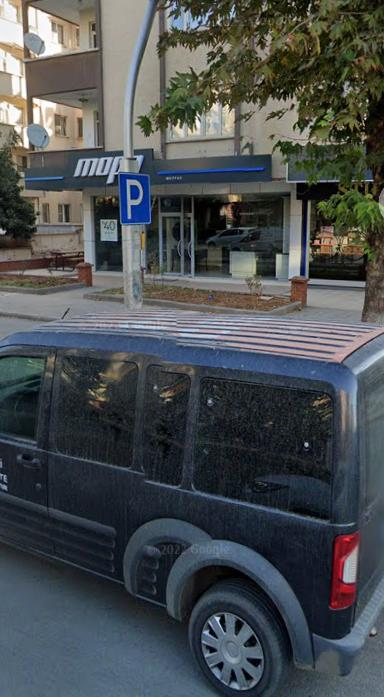park: (119, 173, 149, 221)
